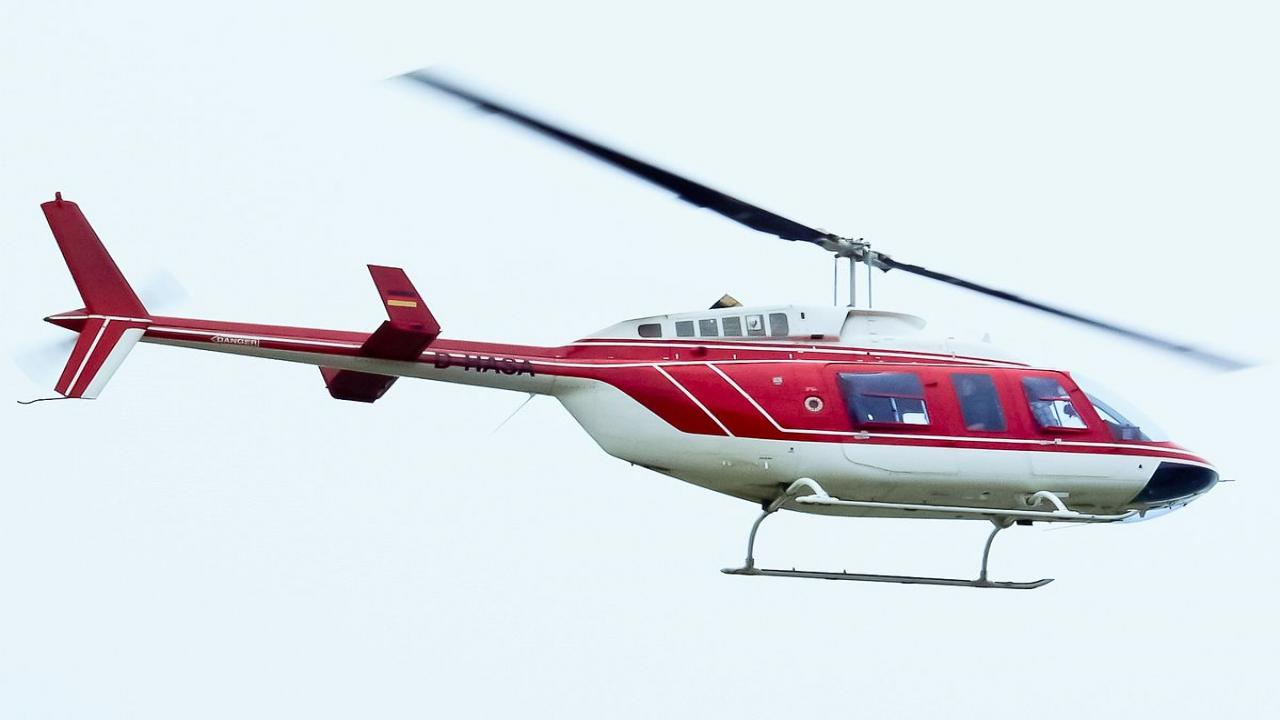Helicopter: (14, 58, 1266, 604)
